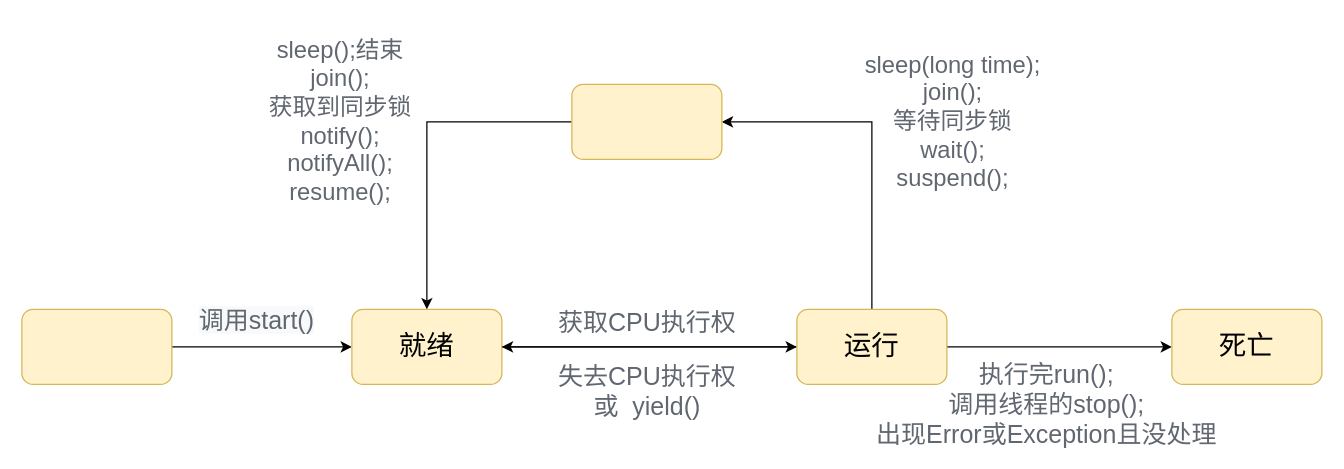
Some shapes in this 1344 by 469 pixel diagram are drawn without their labels. The shapes that lost their labels are listed below. From the top down, each one's box as (x1, y1, x2, y2) in pixels, then its label:
(571, 83, 722, 159): 阻塞
(21, 308, 172, 384): 新建
